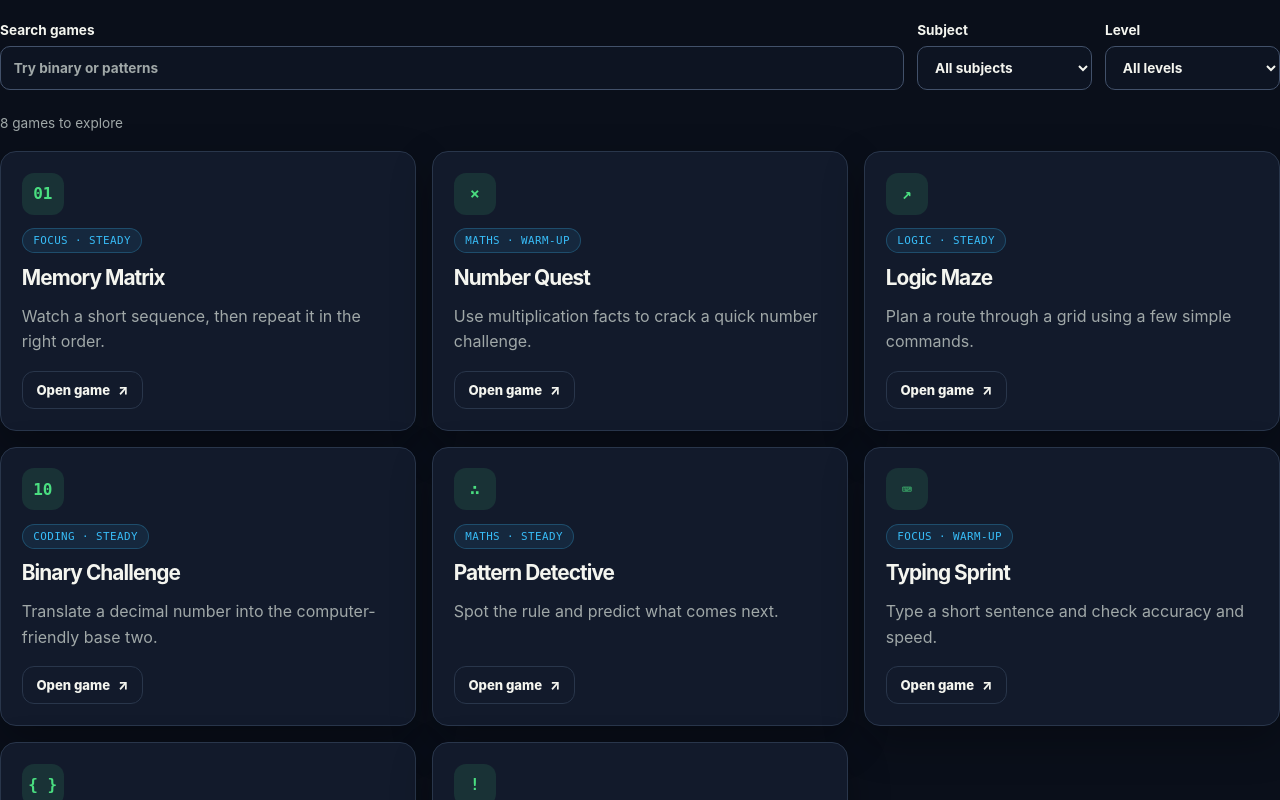
Scenario: GameCatalog › filters by search query
Type "binary" into the search field at point(452, 68), box [0,46,904,90]
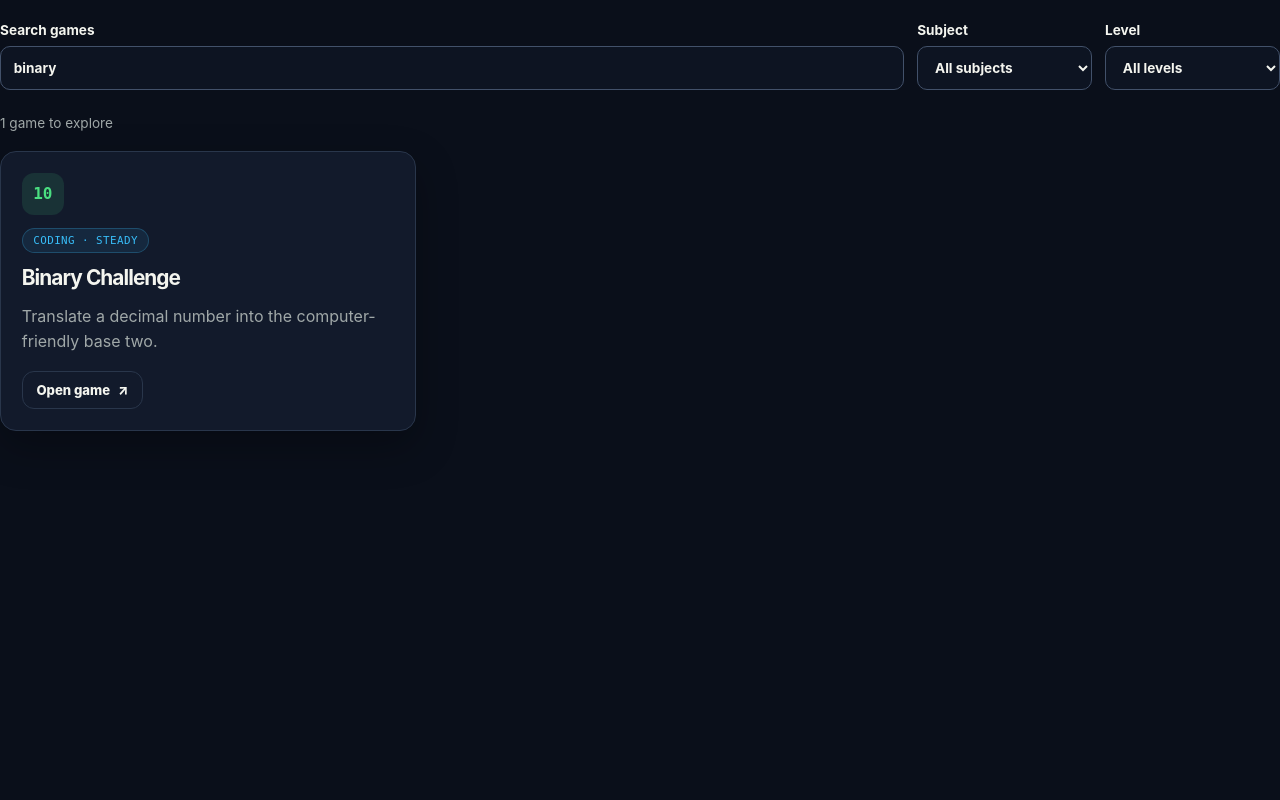
Expected: the heading "Binary Challenge" is shown, [22,266,180,289]
Expected: the heading "Number Quest" is gone
